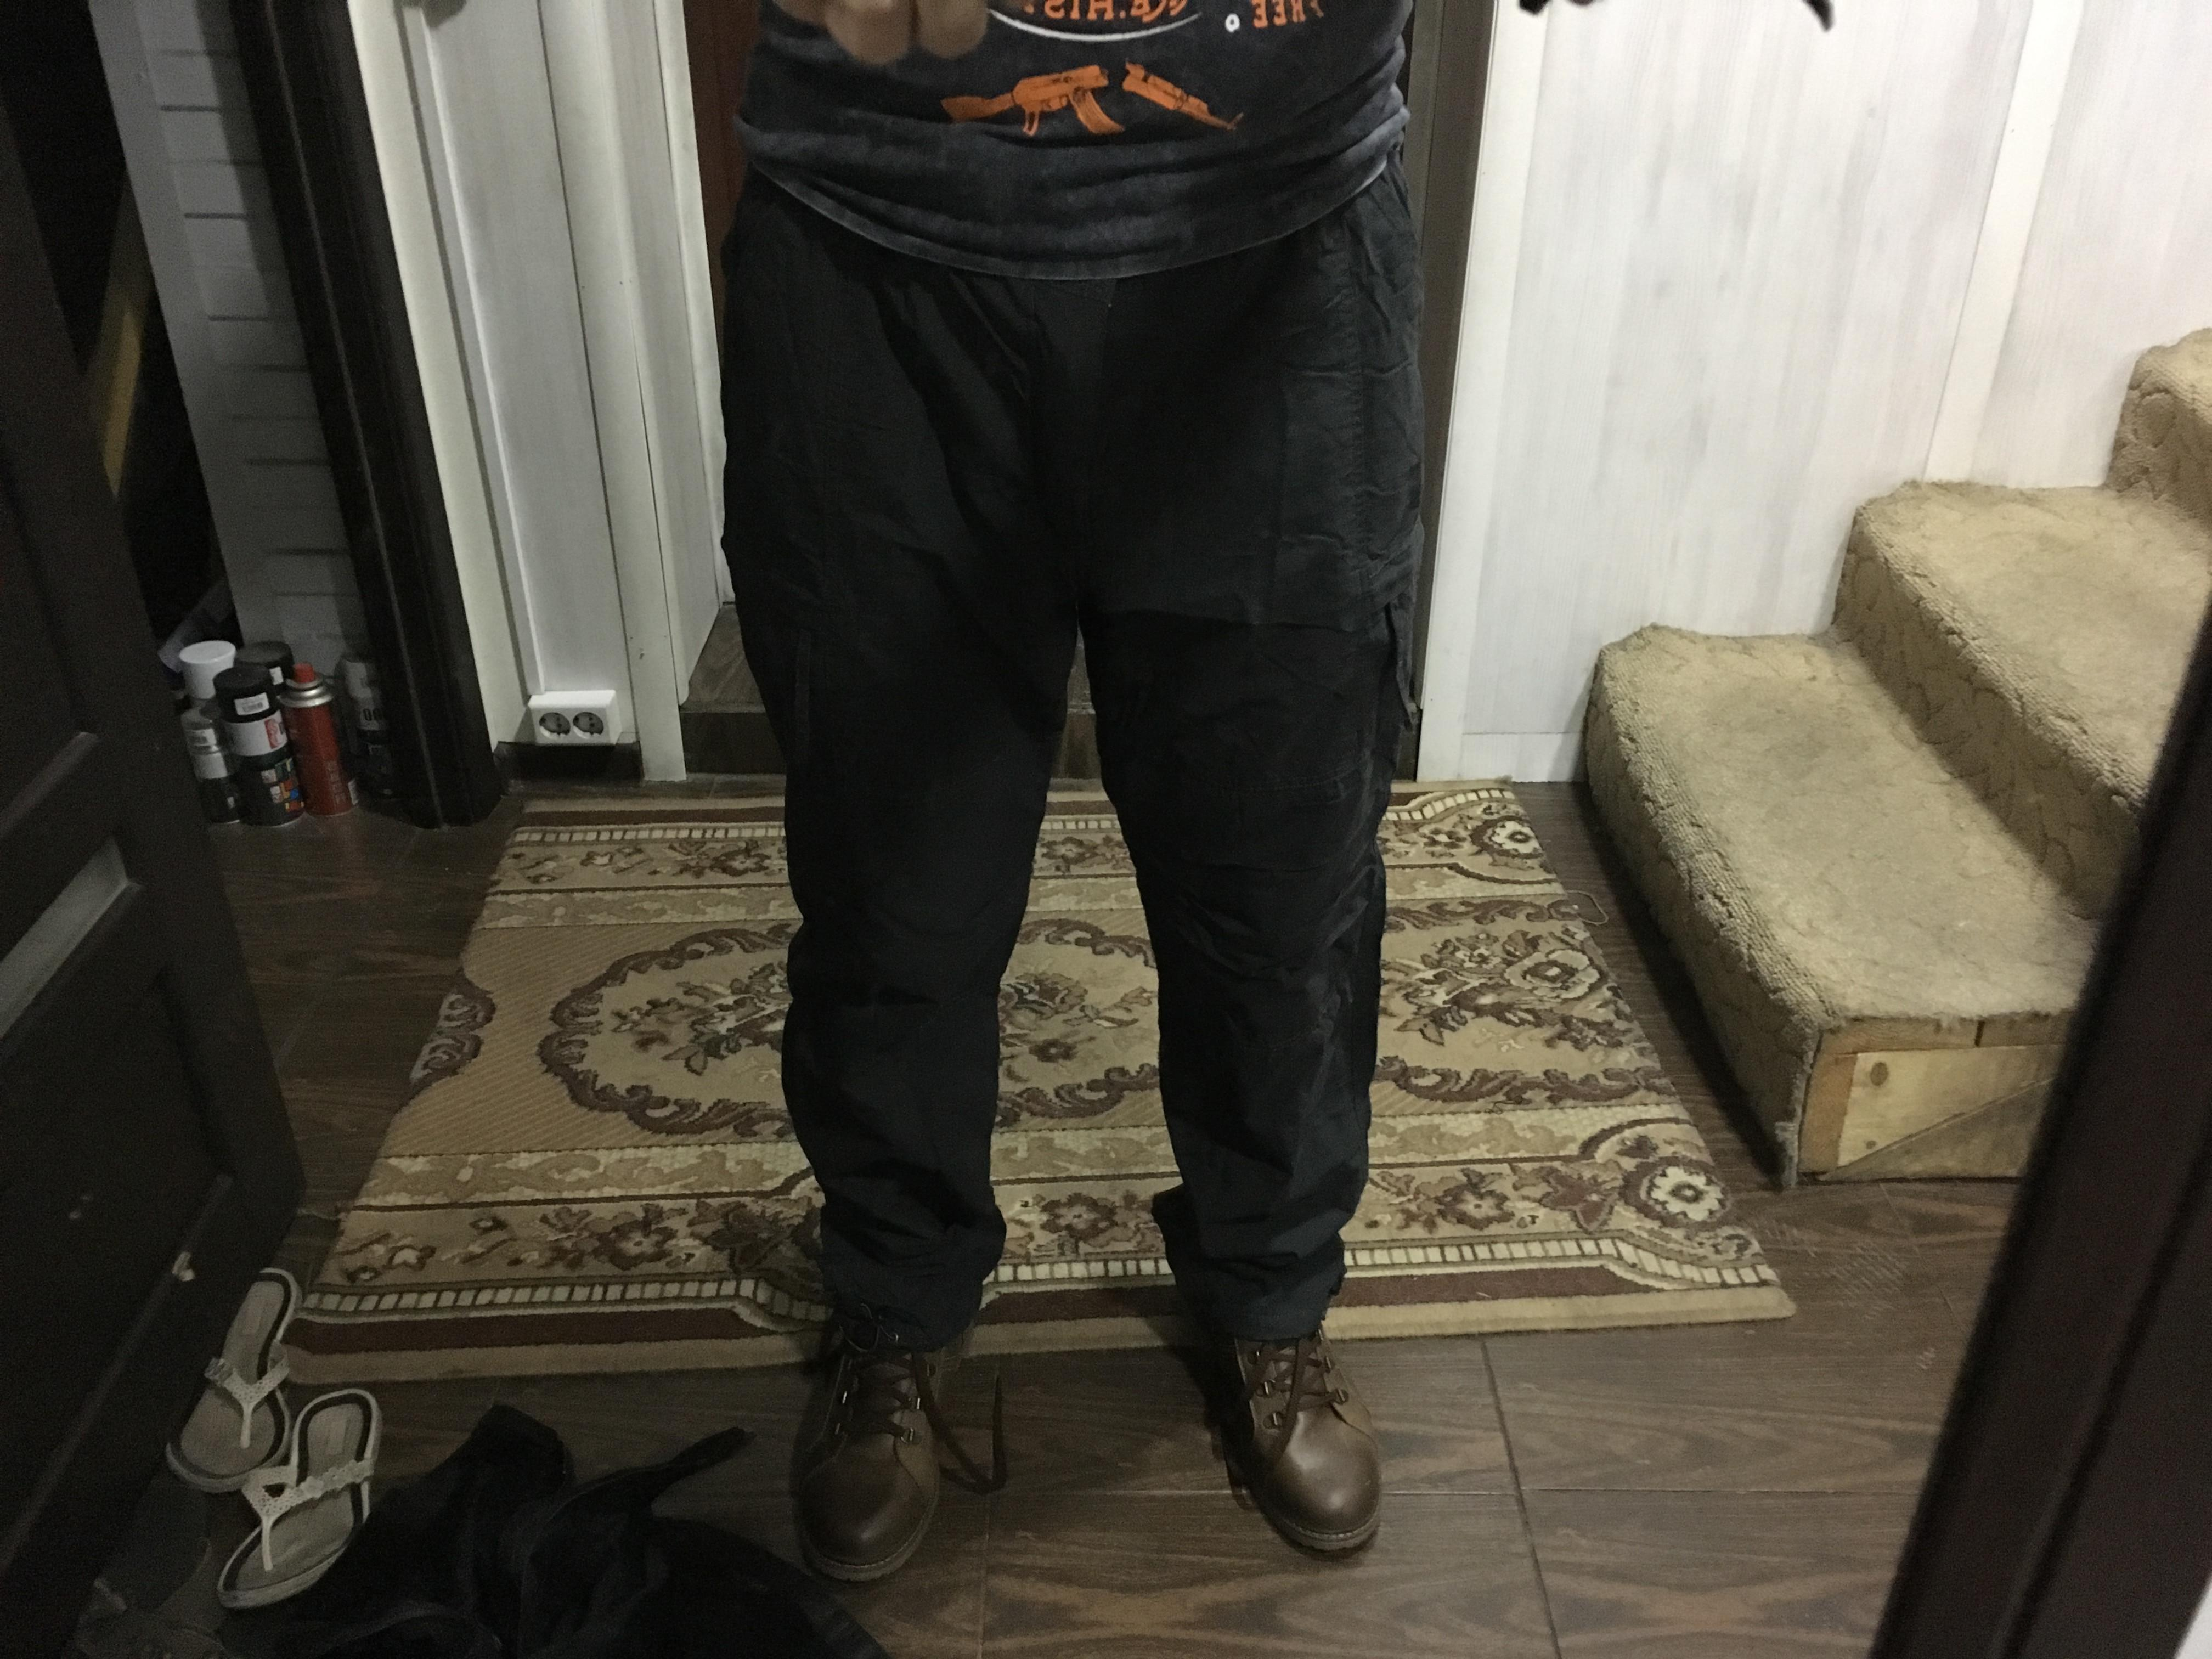pants: (700, 143, 1383, 1389)
